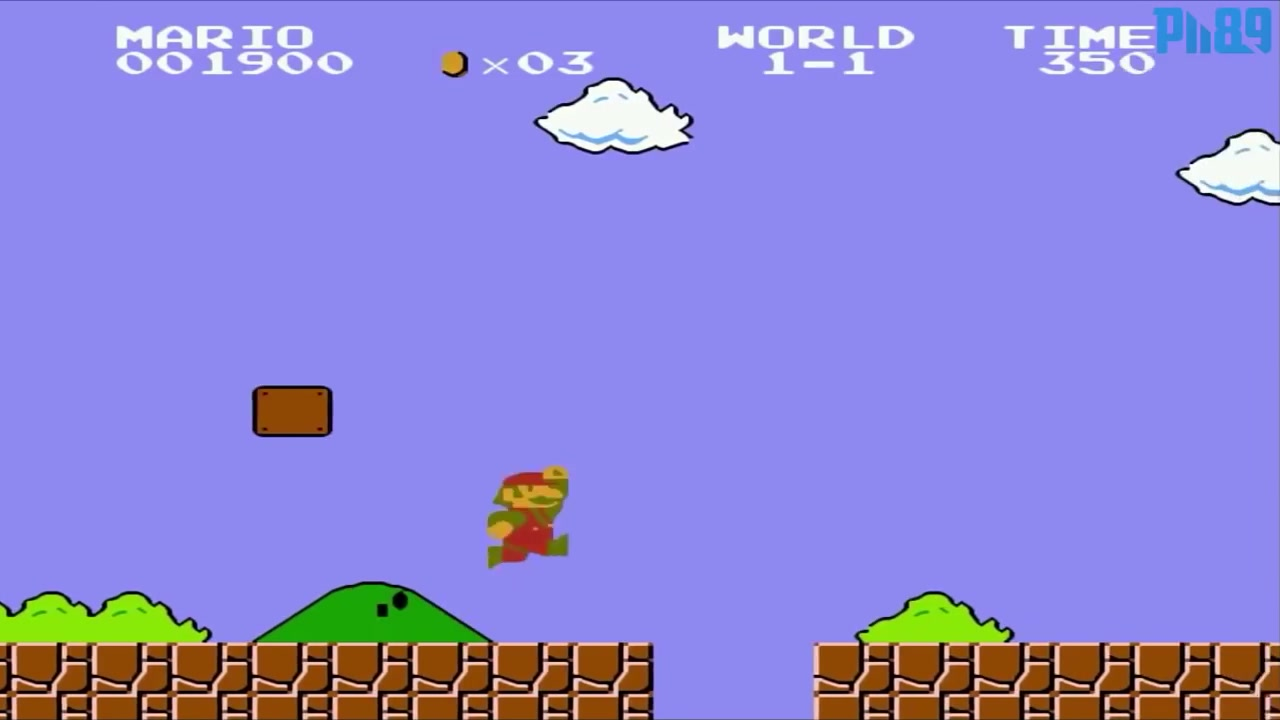mario: (478, 460, 578, 578)
